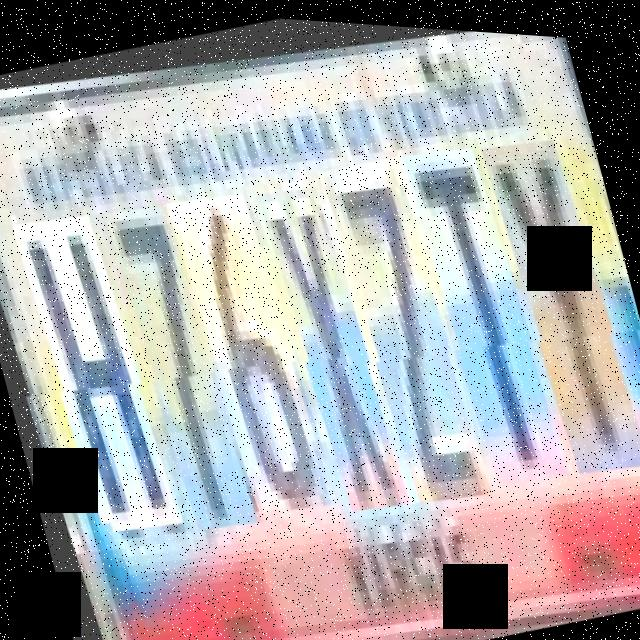6: (164, 177, 334, 518)
7: (101, 191, 257, 535)
H: (12, 201, 182, 542)
T: (396, 123, 568, 481)
X: (254, 167, 408, 511)
Y: (476, 111, 640, 469)
Z: (318, 145, 490, 503)
